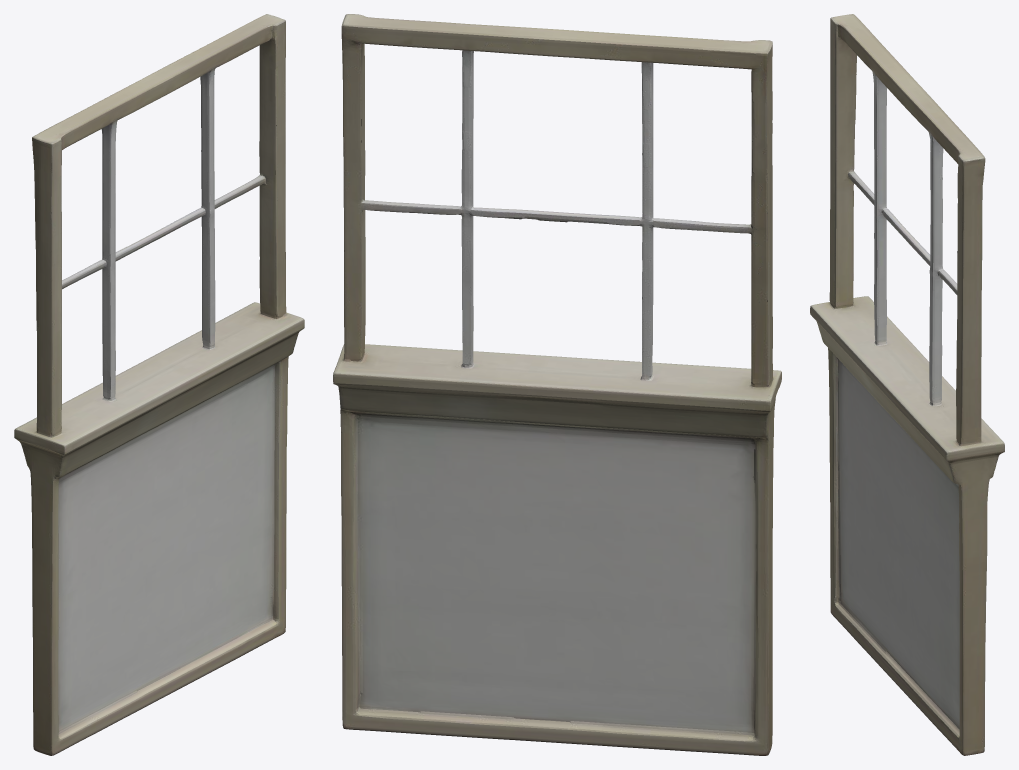
File: window_in_middle_000.glb
The picture shows the model from 3 angles, left to right: view 1: azimuth 30°, elevation 25°; view 2: azimuth 150°, elevation 25°; view 3: azimuth 270°, elevation 25°; orthographic projection. The views are drawn at different scales.
Parts seen in each view (by area): view 1: phase2_final_window_in_middle_000.obj; view 2: phase2_final_window_in_middle_000.obj; view 3: phase2_final_window_in_middle_000.obj.
Boxes of the visible parts, <box> form: phase2_final_window_in_middle_000.obj: <box>14,14,304,755</box>; phase2_final_window_in_middle_000.obj: <box>333,14,781,755</box>; phase2_final_window_in_middle_000.obj: <box>810,14,1004,755</box>.
Size of the model in its own units: 0.4673 by 0.8281 by 0.2455.
1 material, 1 textured.
